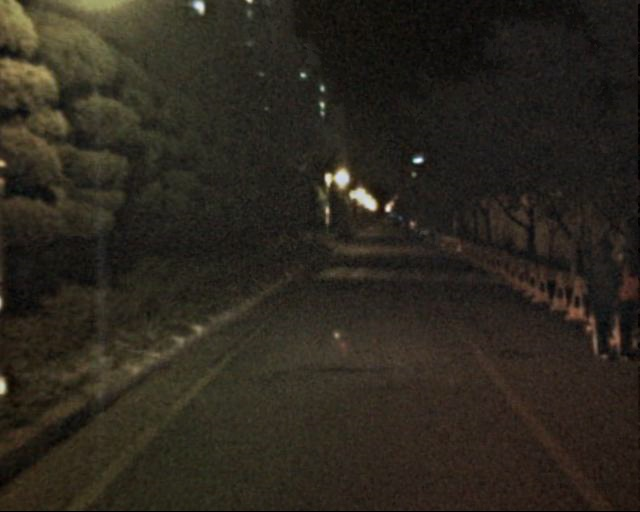person: (576, 238, 627, 363), (603, 245, 640, 363)
